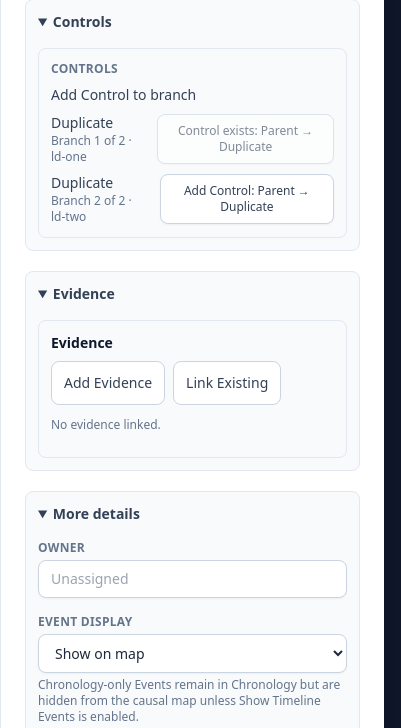
Test: Inspector and keyboard workflows › lists every downstream branch and creates a Control on a chosen non-first child
(page scrolled)
Expected: the text "Add Control to branch" is shown, [51,85,196,104]
Expected: the text "Branch 1 of 2 · ld-one" is shown, [51,133,145,165]
Click the button "Add Control: Parent → Duplicate".
click(247, 199)  # box [160,174,334,224]
(page scrolled)
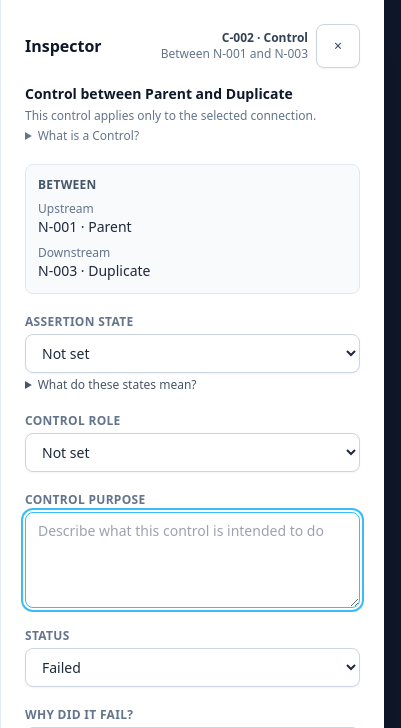
Expected: the heading "Control between Parent and Duplicate" is shown, [25,84,293,103]
